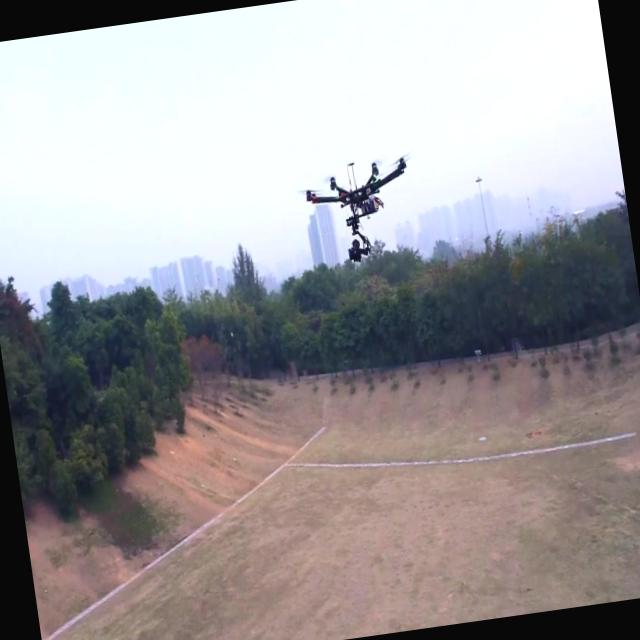drone: (292, 150, 425, 272)
